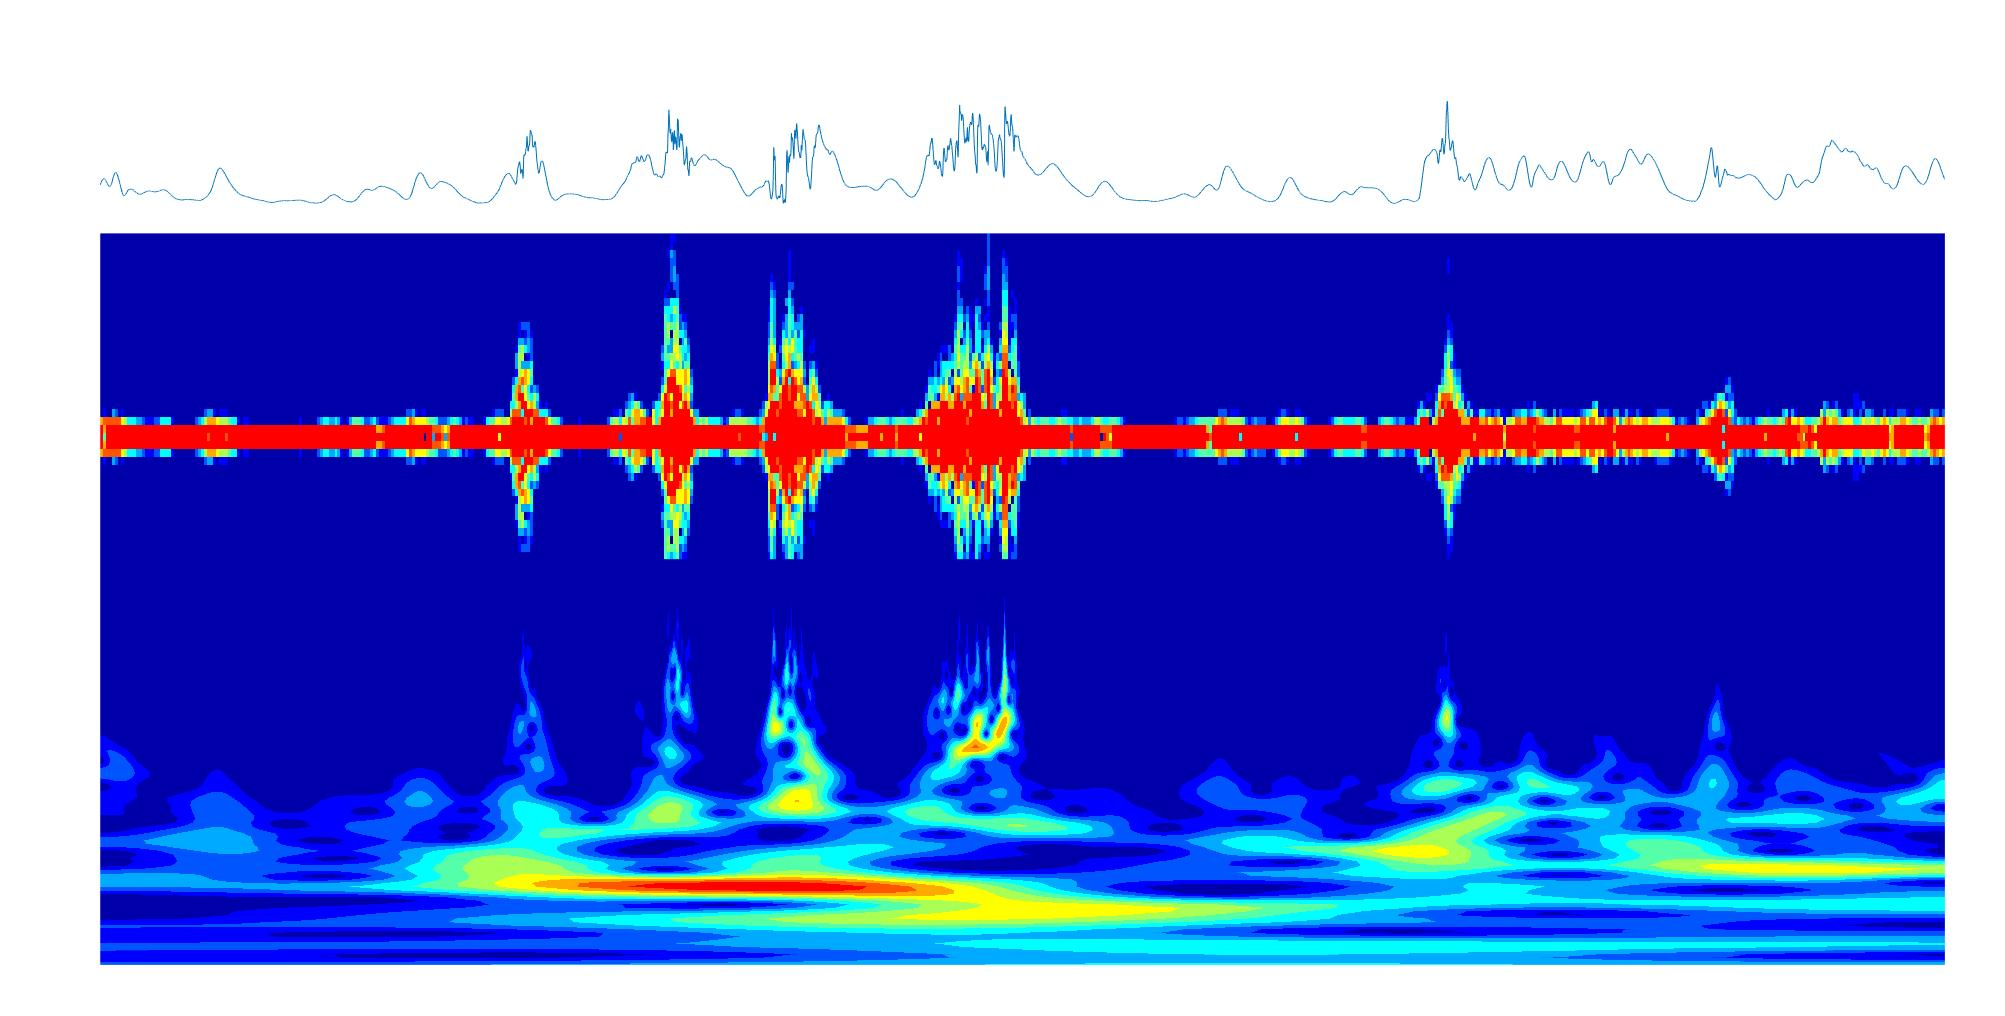TURBULENT: (923, 233, 1025, 964), (759, 233, 830, 965), (503, 236, 547, 964), (655, 232, 696, 967)
